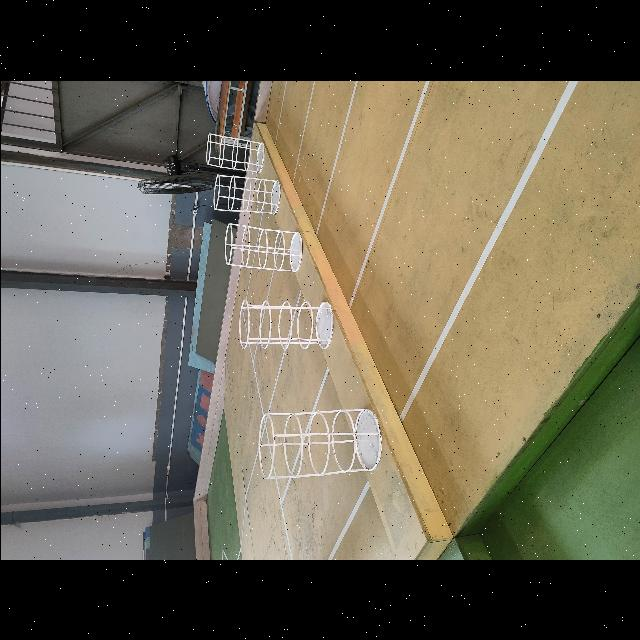S: (256, 406, 382, 478), (237, 296, 334, 351), (223, 222, 303, 273), (211, 173, 283, 217), (203, 129, 265, 173)
